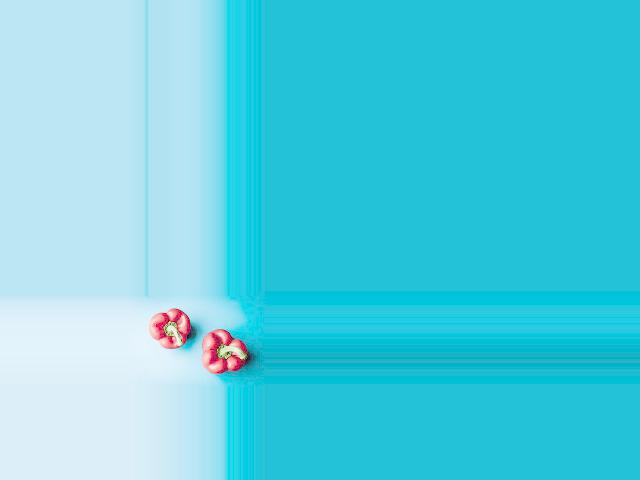bell_pepper: (192, 323, 252, 373)
